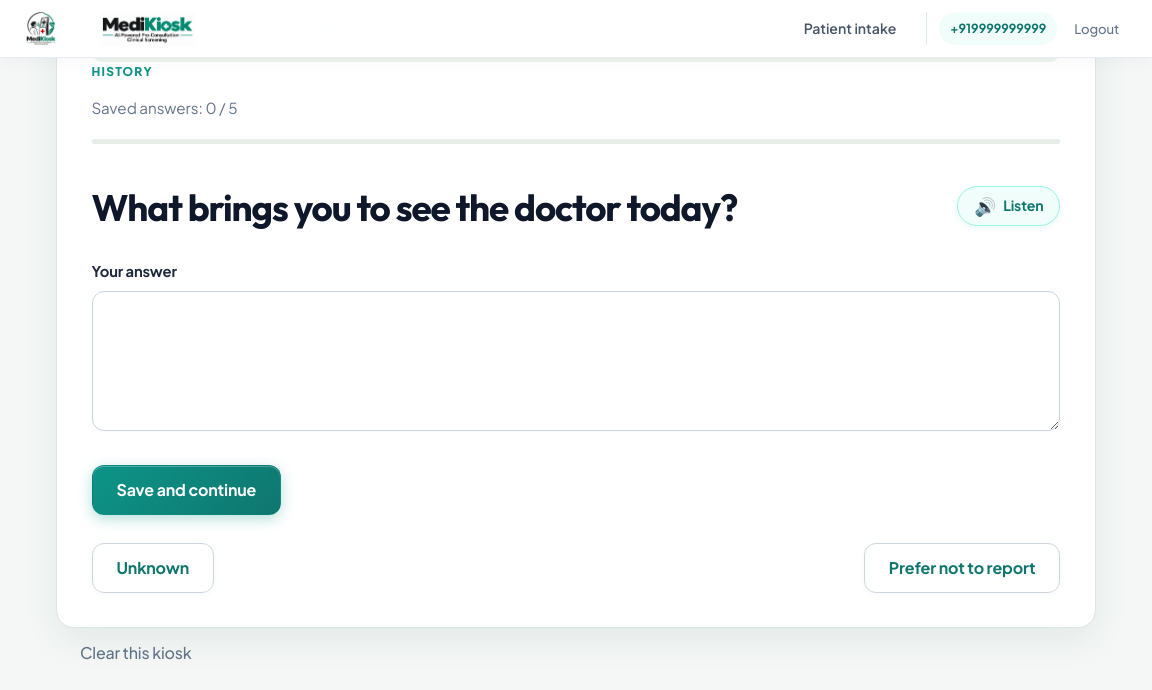
it: Patient intake › keeps the current answer on failed save and retries before advancing
The image size is (1152, 690).
(page scrolled)
Type "Patient wording" into the text box labelled "Your answer". click: (576, 361)
box: [92,291,1060,431]
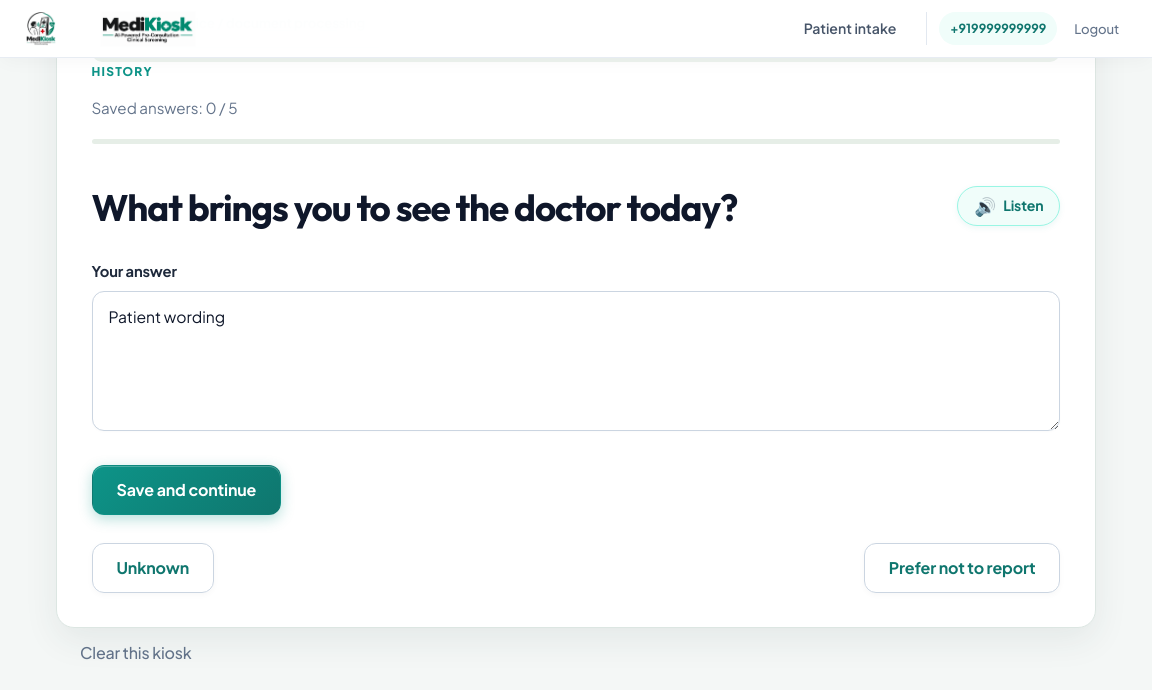
Click the button "Save and continue". click: (186, 490)
box: [92,465,281,515]
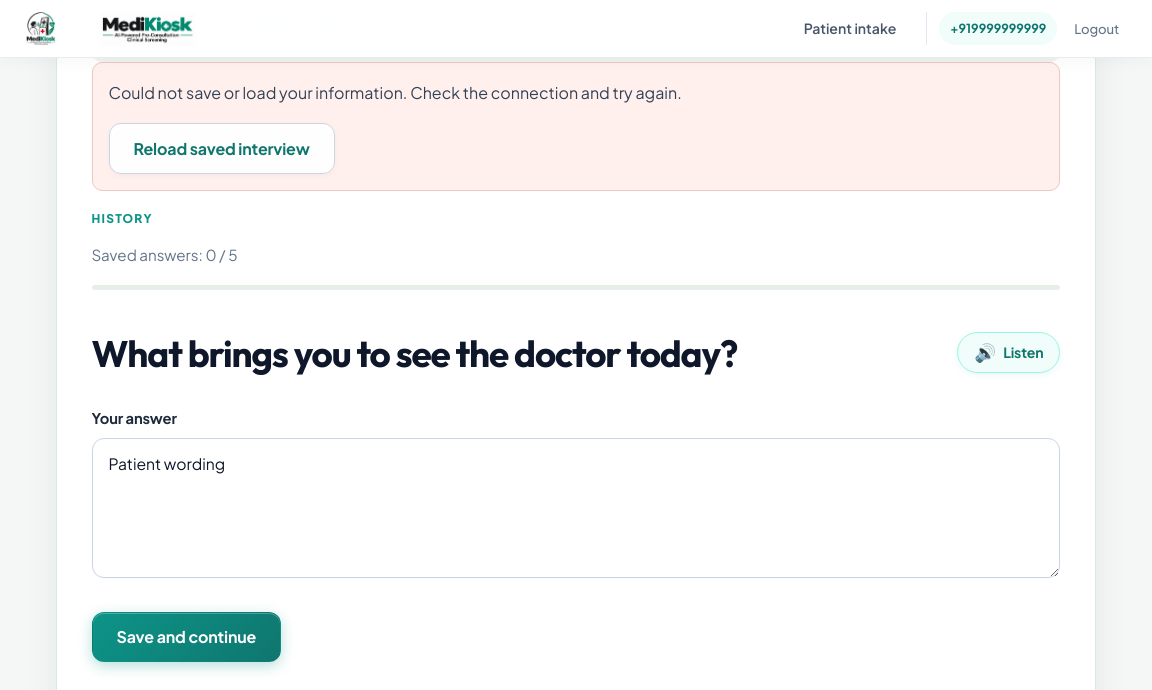
Expected: the heading "What brings you to see the doctor today?" is shown, [92,330,737,377]
Now the message is shown, box [92,62,1060,191]
Click the button "Save and continue". click: (186, 637)
box: [92,612,281,662]
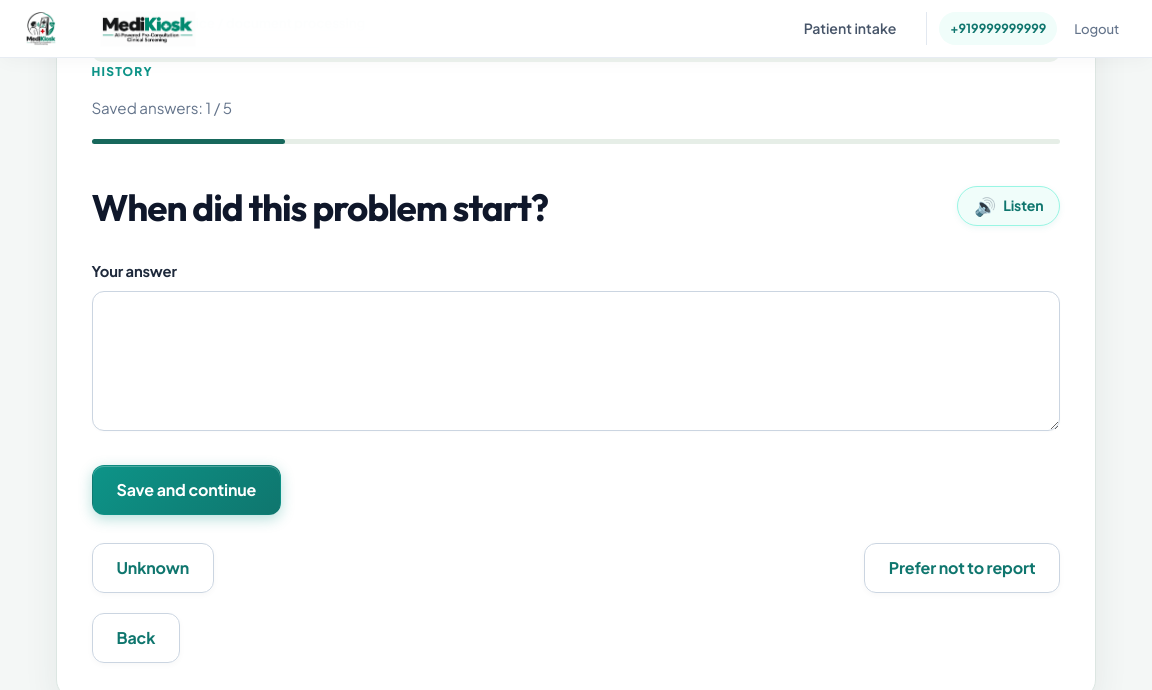
Now the heading "When did this problem start?" is shown, box [92,184,548,231]
